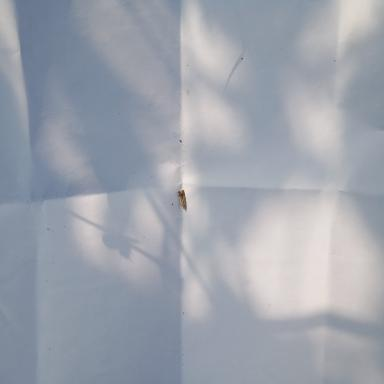pbw: (178, 189, 186, 209)
